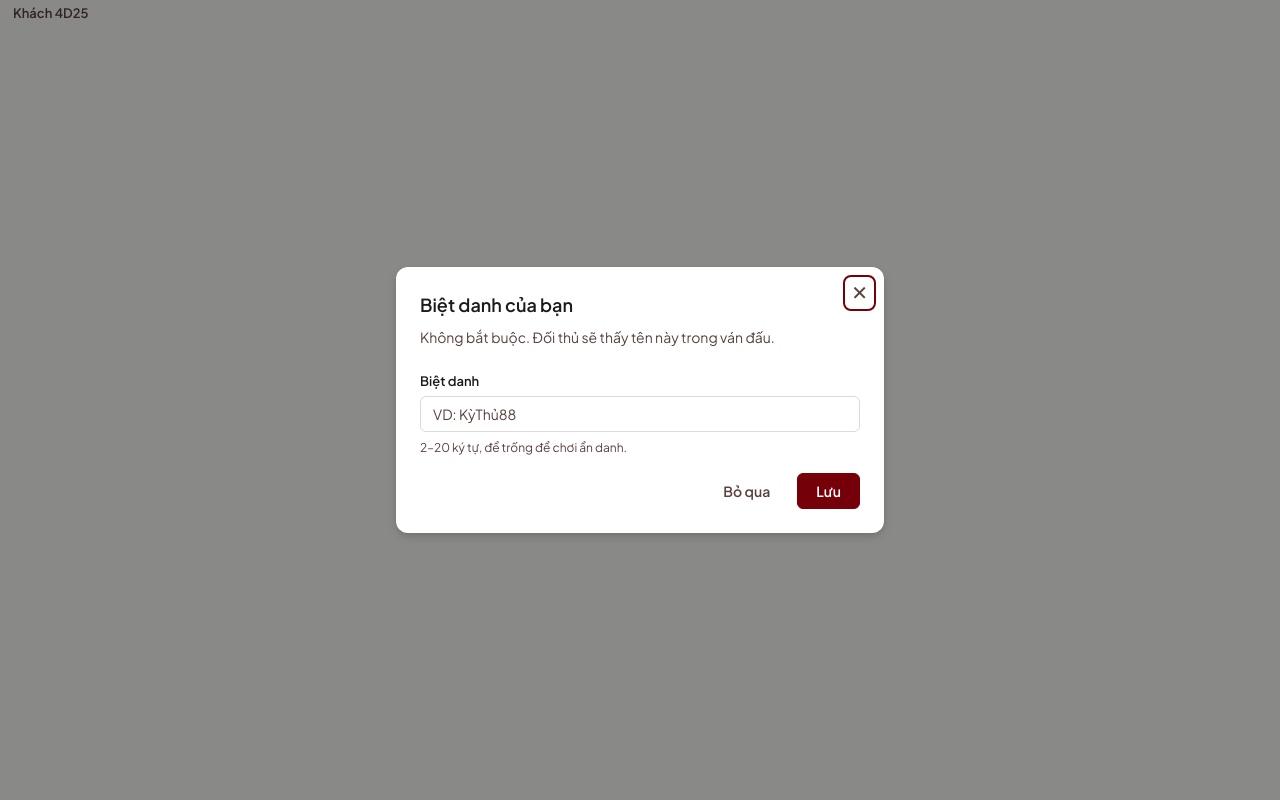
Test case: SessionBar › keeps the dialog open with a message on an invalid nickname
The width and height of the screenshot is (1280, 800).
Type "a" into the field labelled "Biệt danh" at (640, 414), box [420, 396, 860, 432]
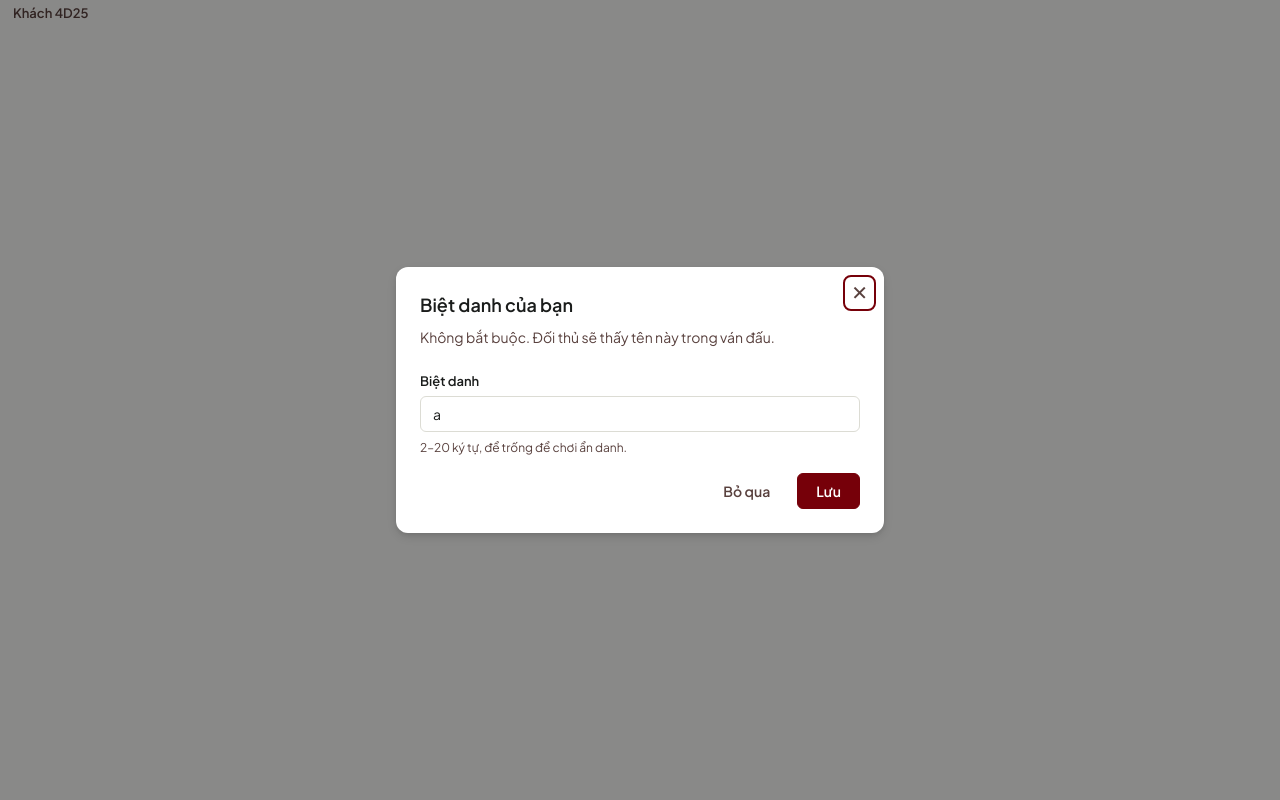
Click the button "Lưu" at (829, 491), box [797, 473, 860, 509]
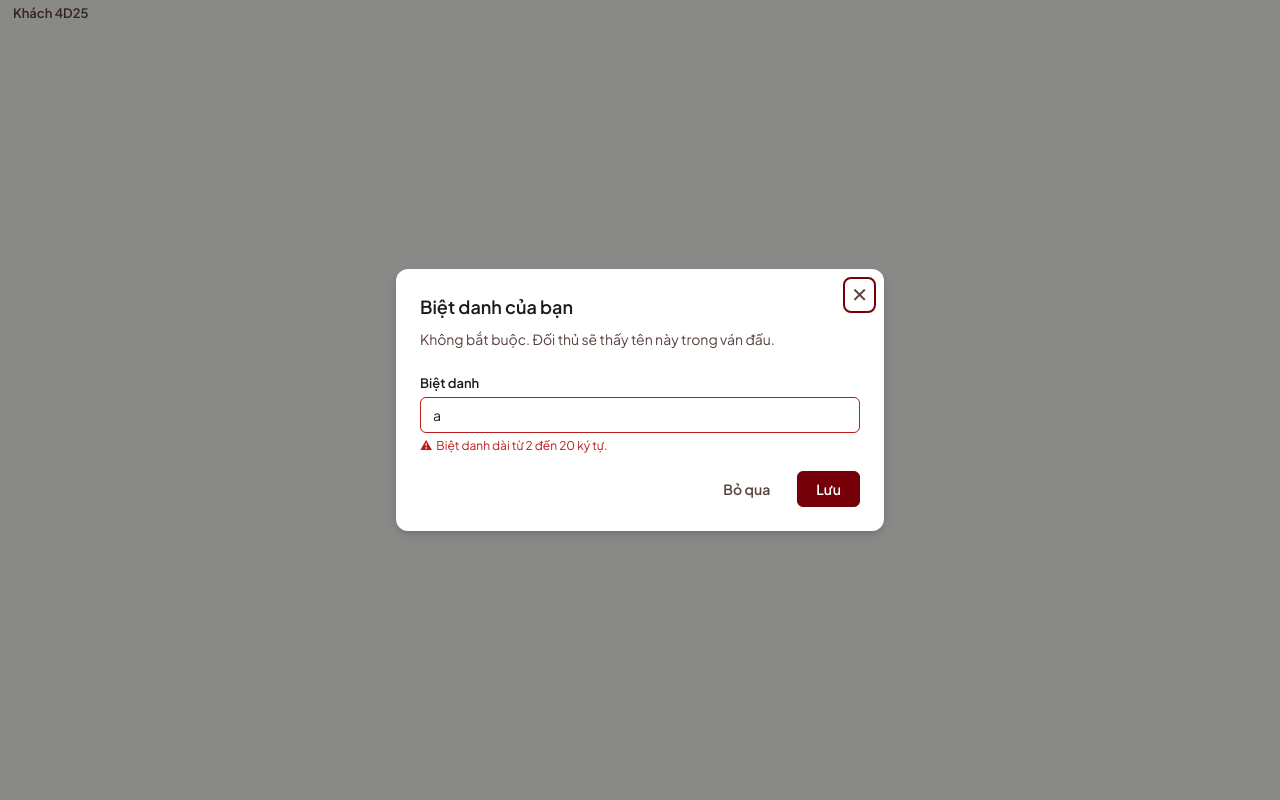
Expected: the dialog is shown, [396, 268, 884, 531]
Result: the text "⚠ Biệt danh dài từ 2 đến 20 ký tự." is shown at [420, 438, 608, 453]
